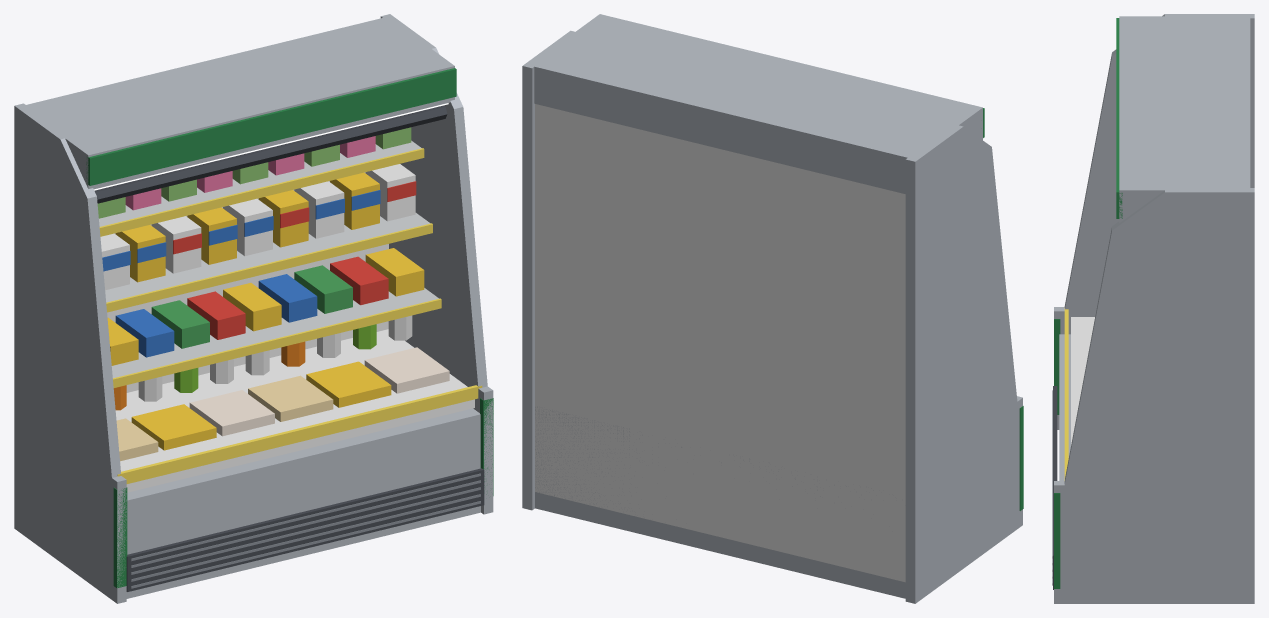
File: Chiller_Multideck_Open_2m.fbx
3 renders of one model, left to right at view 1: azimuth 30°, elevation 25°; view 2: azimuth 150°, elevation 25°; view 3: azimuth 270°, elevation 25°, orthographic. The views are drawn at different scales.
Parts seen in each view (by area): view 1: Chiller_Multideck_Open_2m; view 2: Chiller_Multideck_Open_2m; view 3: Chiller_Multideck_Open_2m.
Boxes of the visible parts, left/top/right/bottom form: Chiller_Multideck_Open_2m: left=14, top=14, right=493, bottom=603; Chiller_Multideck_Open_2m: left=522, top=14, right=1023, bottom=603; Chiller_Multideck_Open_2m: left=1052, top=14, right=1254, bottom=603.
Size of the model in its own units: 2.01 by 2.15 by 0.958.
1 material, 1 textured.
